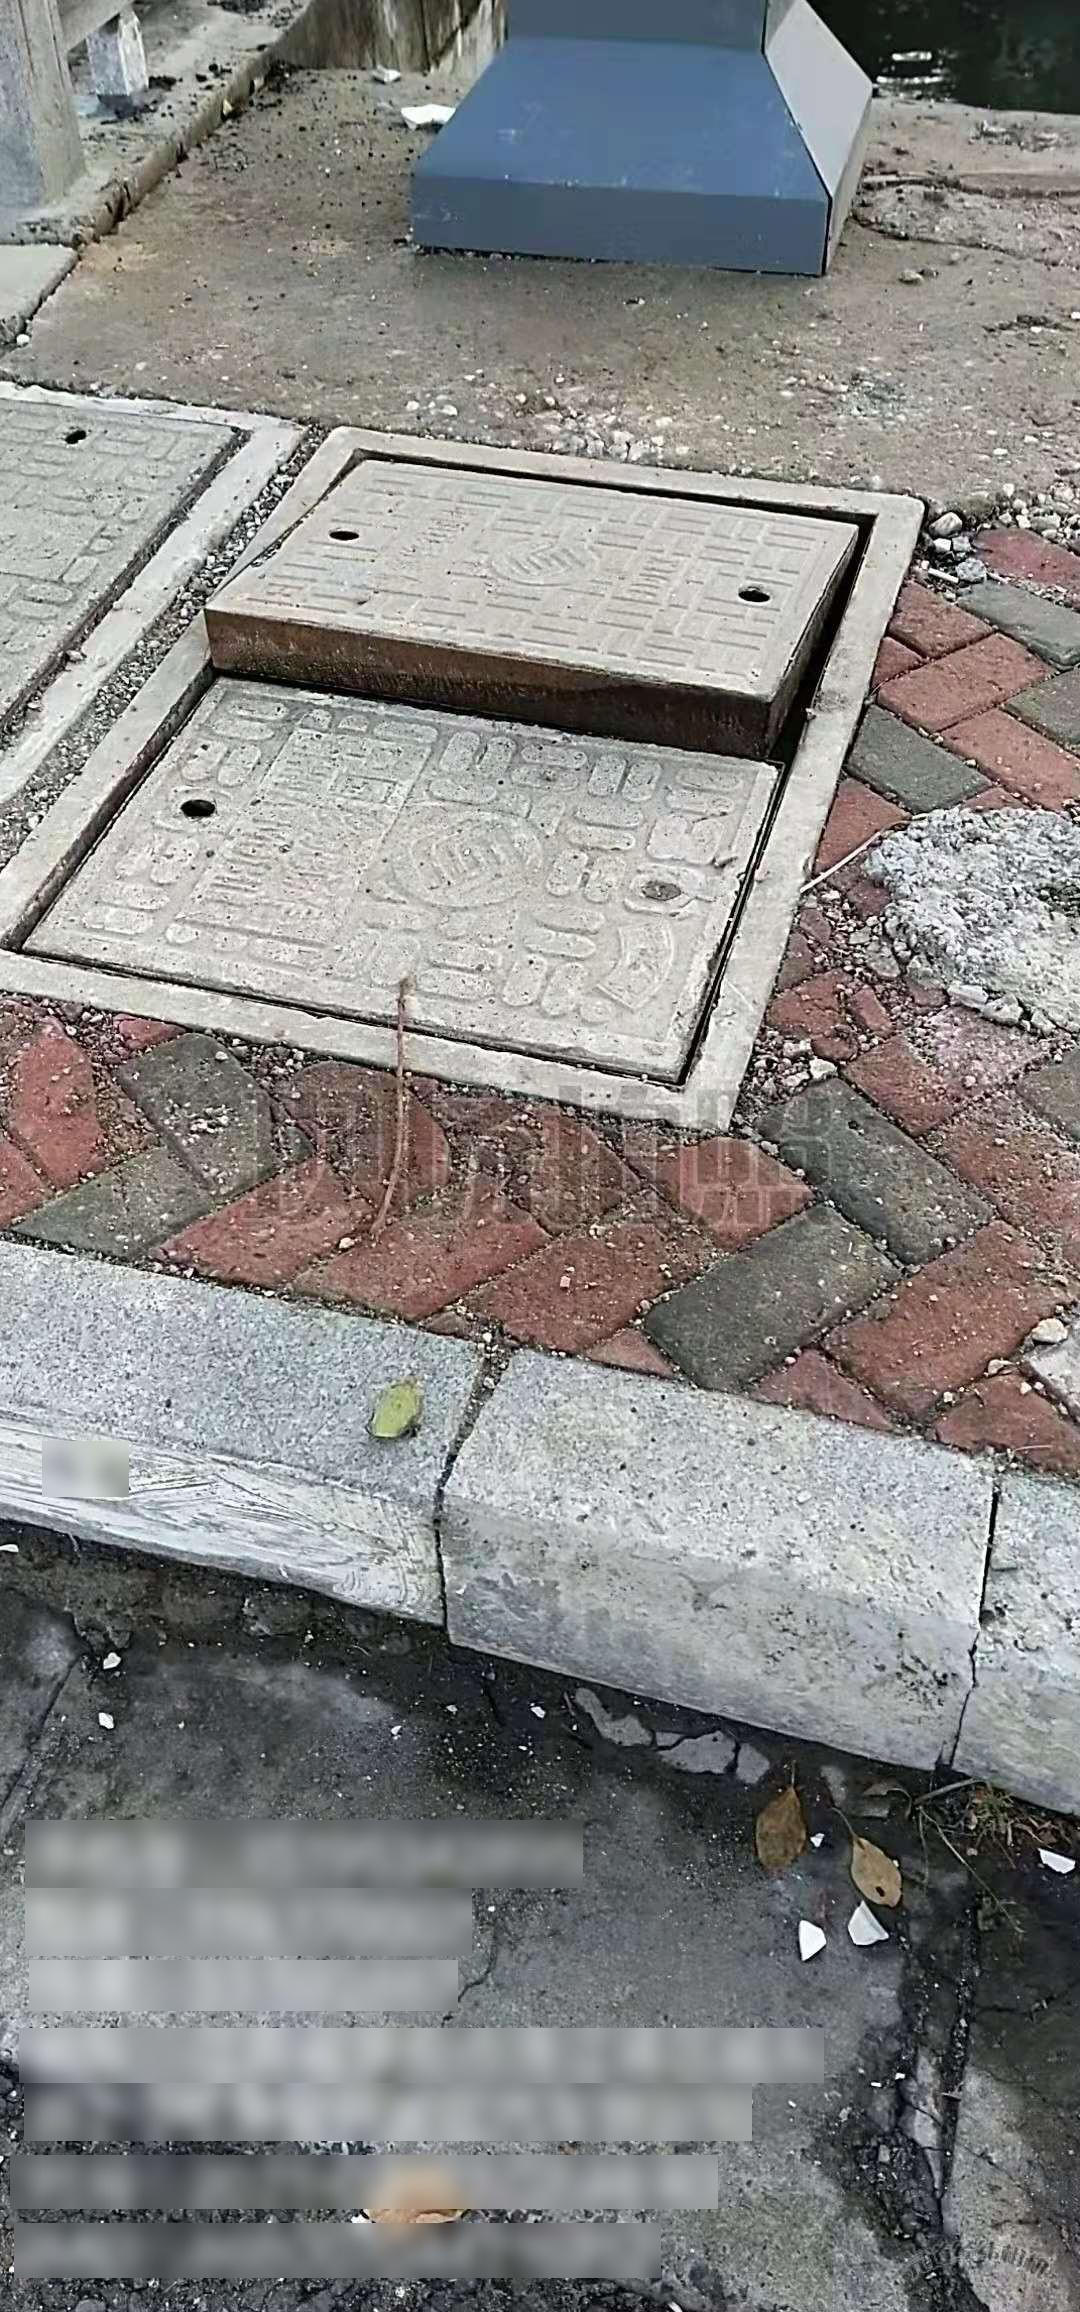wellcover: (41, 361, 940, 1191)
